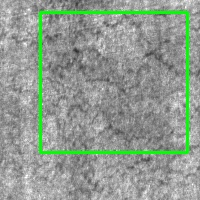crazing: (40, 12, 187, 152)
